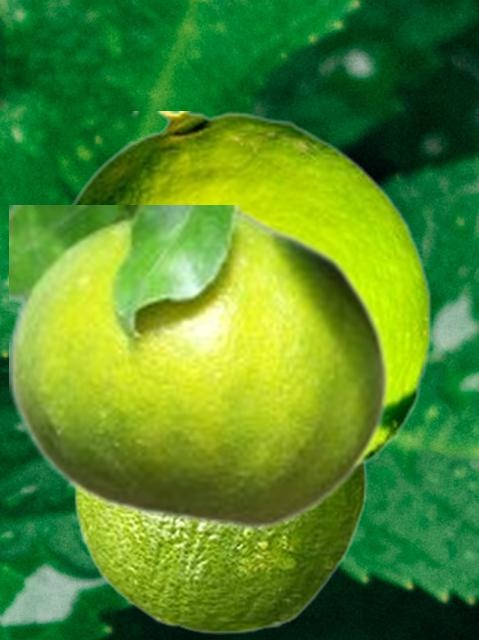dalandan: (67, 111, 431, 468), (9, 205, 390, 531), (73, 464, 371, 633)
